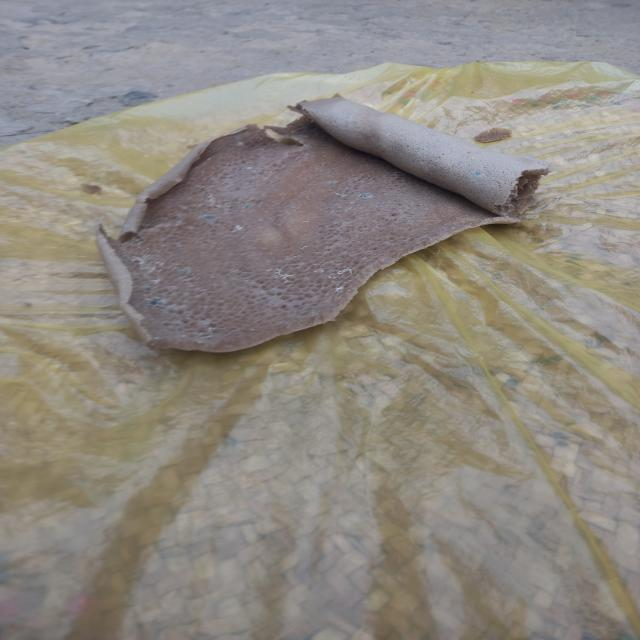injera_mold: (128, 255, 161, 277), (328, 269, 353, 291), (268, 266, 297, 283), (162, 308, 184, 322), (146, 295, 165, 309), (199, 214, 219, 224), (140, 284, 159, 294), (174, 266, 192, 276), (356, 191, 374, 200), (334, 190, 350, 200), (173, 240, 187, 249), (472, 170, 487, 178), (242, 202, 253, 211), (232, 224, 244, 232), (235, 141, 248, 148), (326, 180, 338, 187)
